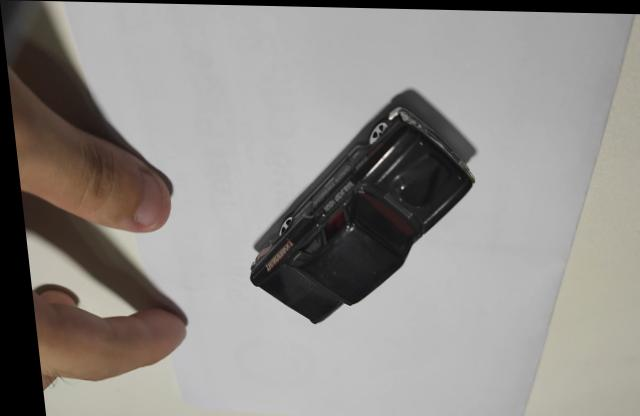01_FORD: (242, 85, 473, 322)
